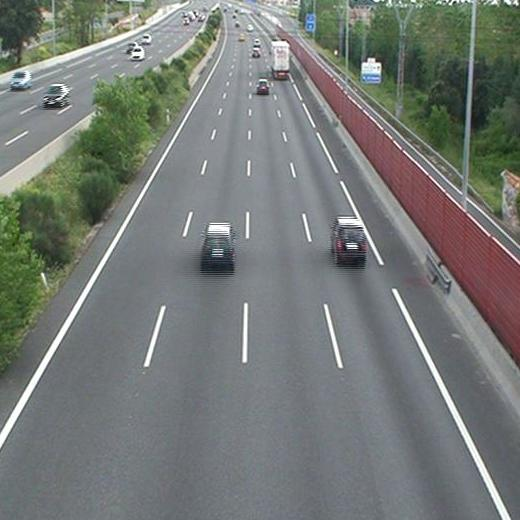car: (202, 223, 234, 265), (332, 219, 366, 258), (255, 79, 269, 92), (250, 48, 260, 56)
truck: (270, 41, 289, 78)
